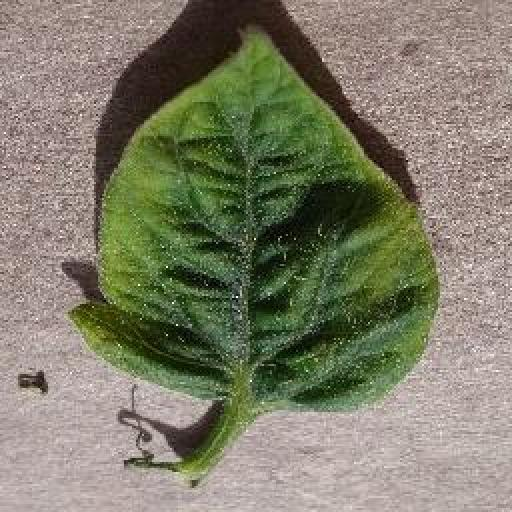Yellow Leaf Curl Virus: (71, 20, 440, 413)
